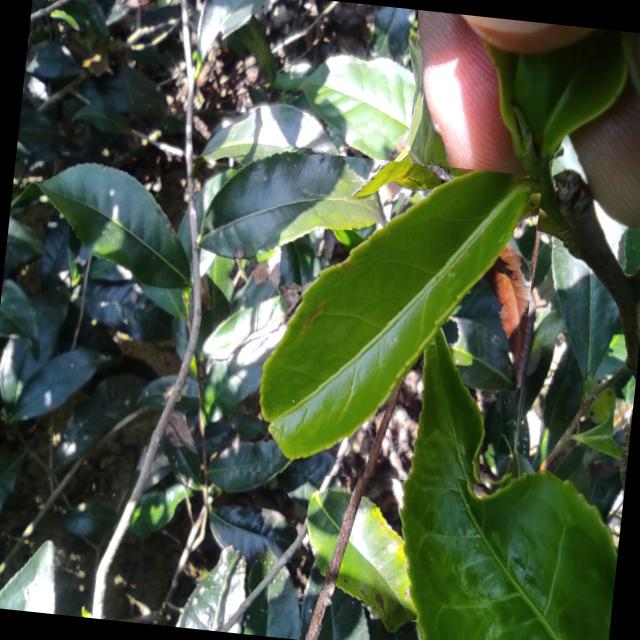Category C 4-7 days: (238, 147, 542, 498)
